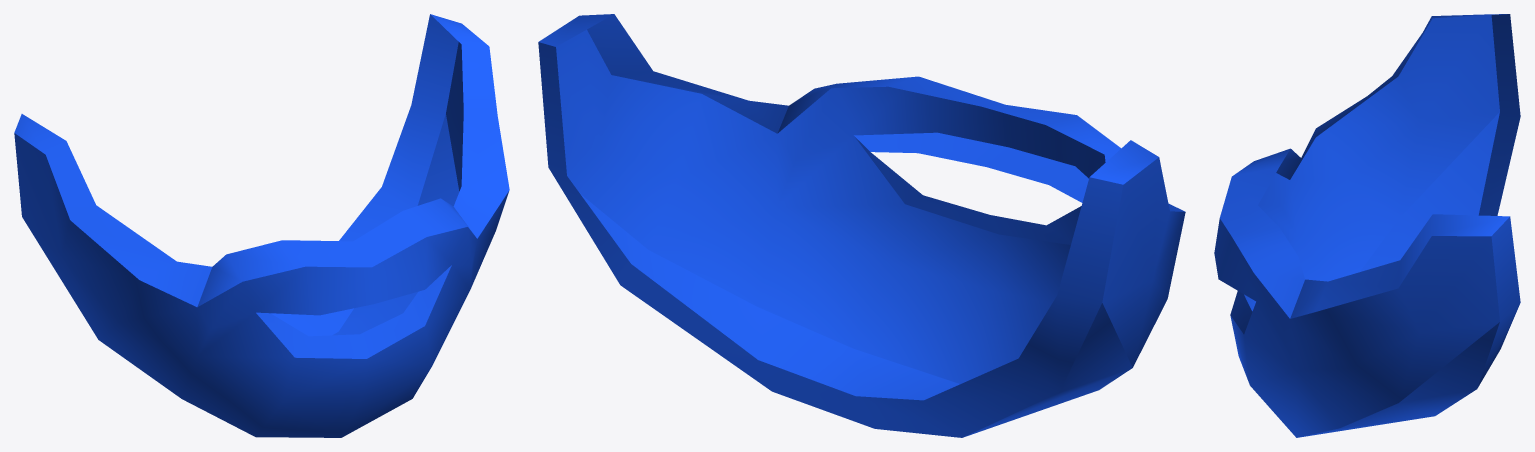
The model's file is Male_Beard_01.fbx.
3 views of the same model, side by side, from view 1: azimuth 30°, elevation 25°; view 2: azimuth 150°, elevation 25°; view 3: azimuth 270°, elevation 25° (orthographic). The views are drawn at different scales.
Visible parts, largest first — view 1: Male_Beard_01; view 2: Male_Beard_01; view 3: Male_Beard_01.
Boxes of the visible parts, bbox=[...] form: Male_Beard_01: bbox=[14, 14, 509, 437]; Male_Beard_01: bbox=[538, 14, 1185, 437]; Male_Beard_01: bbox=[1214, 14, 1520, 437].
Size of the model in its own units: 49.08 by 30.64 by 28.62.
